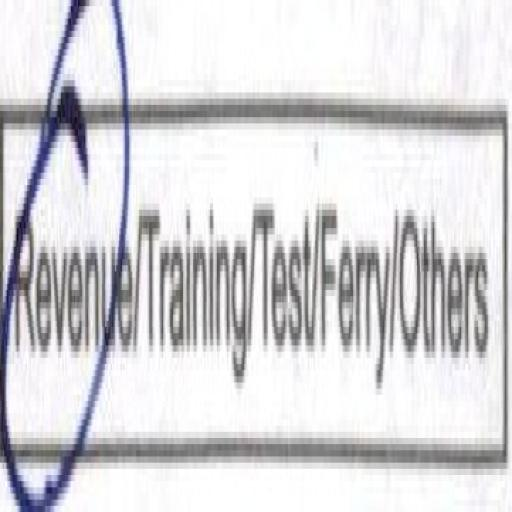check: (0, 0, 138, 506)
